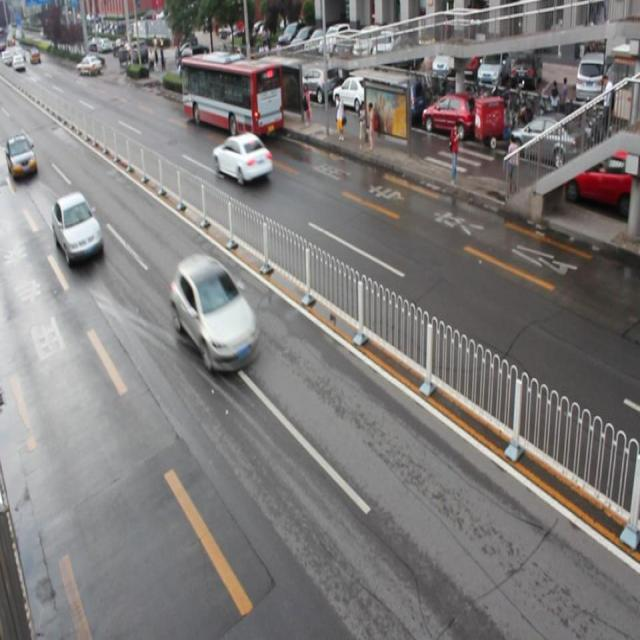car: (170, 255, 261, 372), (52, 192, 104, 263), (214, 132, 273, 183)
van: (180, 56, 282, 136)
